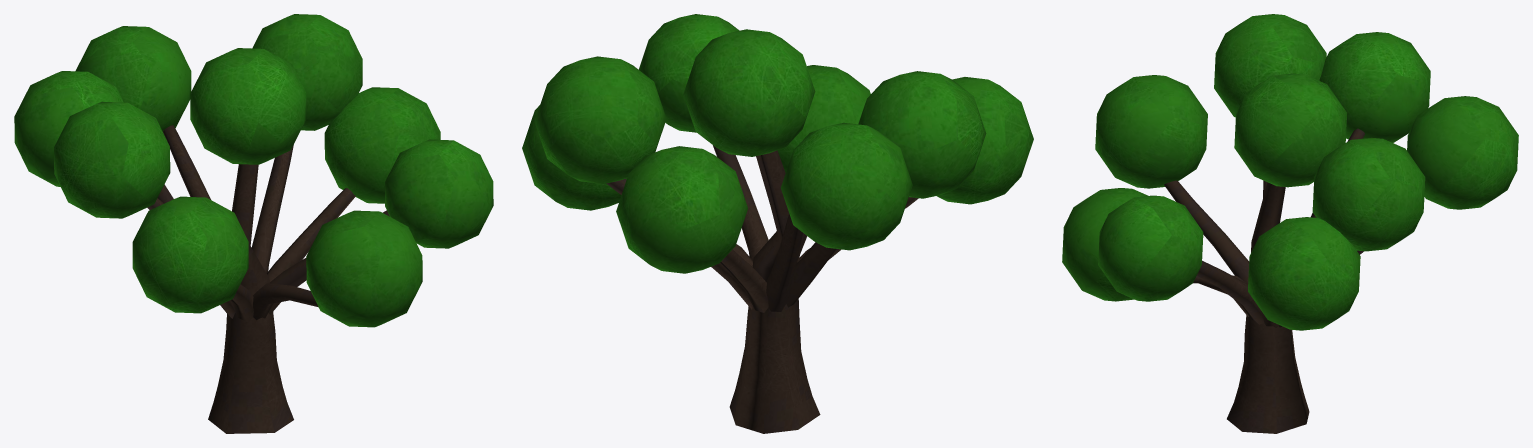
The model's file is firstTree.glb.
The picture shows the model from 3 angles, left to right: view 1: azimuth 30°, elevation 25°; view 2: azimuth 150°, elevation 25°; view 3: azimuth 270°, elevation 25°; orthographic projection. The views are drawn at different scales.
Visible parts, largest first — view 1: Fantasy Tree 13_1, Fantasy Tree 13_0; view 2: Fantasy Tree 13_1, Fantasy Tree 13_0; view 3: Fantasy Tree 13_1, Fantasy Tree 13_0.
Part boxes in pixels (box(x1,y1,x2,y2)): Fantasy Tree 13_1: box(14, 14, 493, 327); Fantasy Tree 13_0: box(147, 125, 389, 433); Fantasy Tree 13_1: box(522, 14, 1033, 273); Fantasy Tree 13_0: box(606, 145, 918, 433); Fantasy Tree 13_1: box(1062, 14, 1518, 330); Fantasy Tree 13_0: box(1164, 128, 1364, 433).
Size of the model in its own units: 19.02 by 16.4 by 19.77.
Materials: 2 (2 with a texture image).
